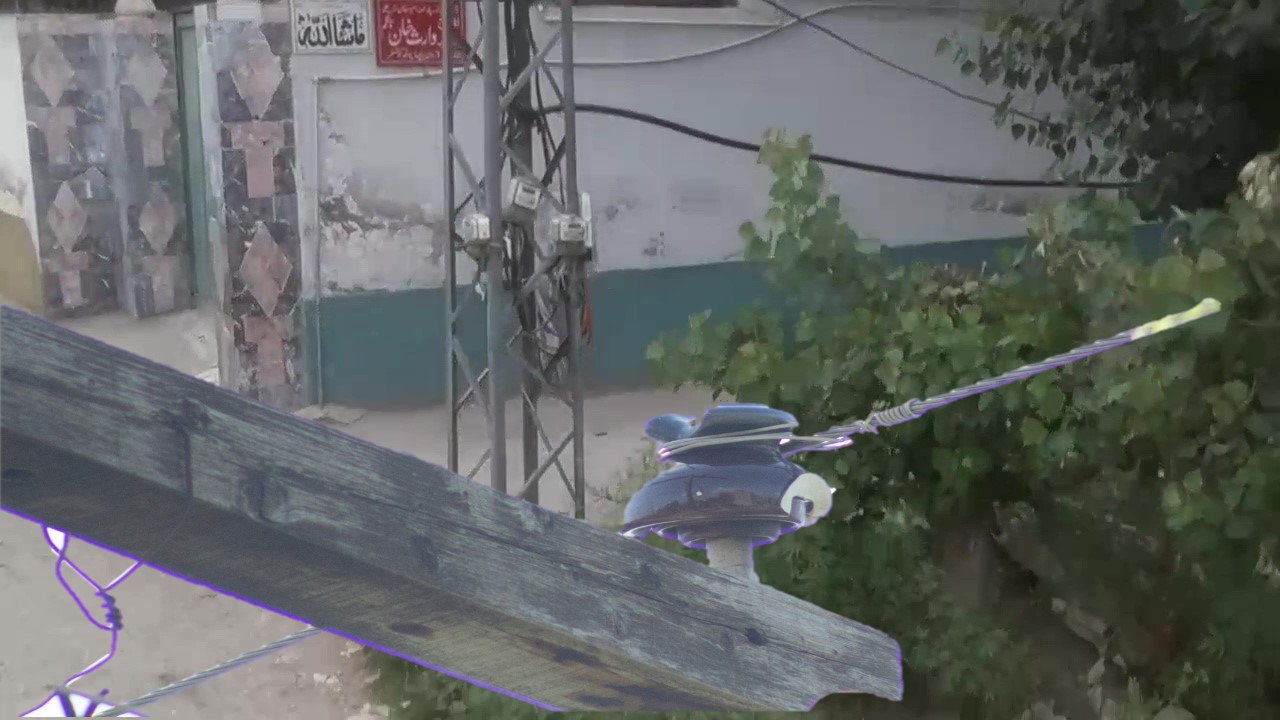defect_pin: (618, 399, 843, 554)
